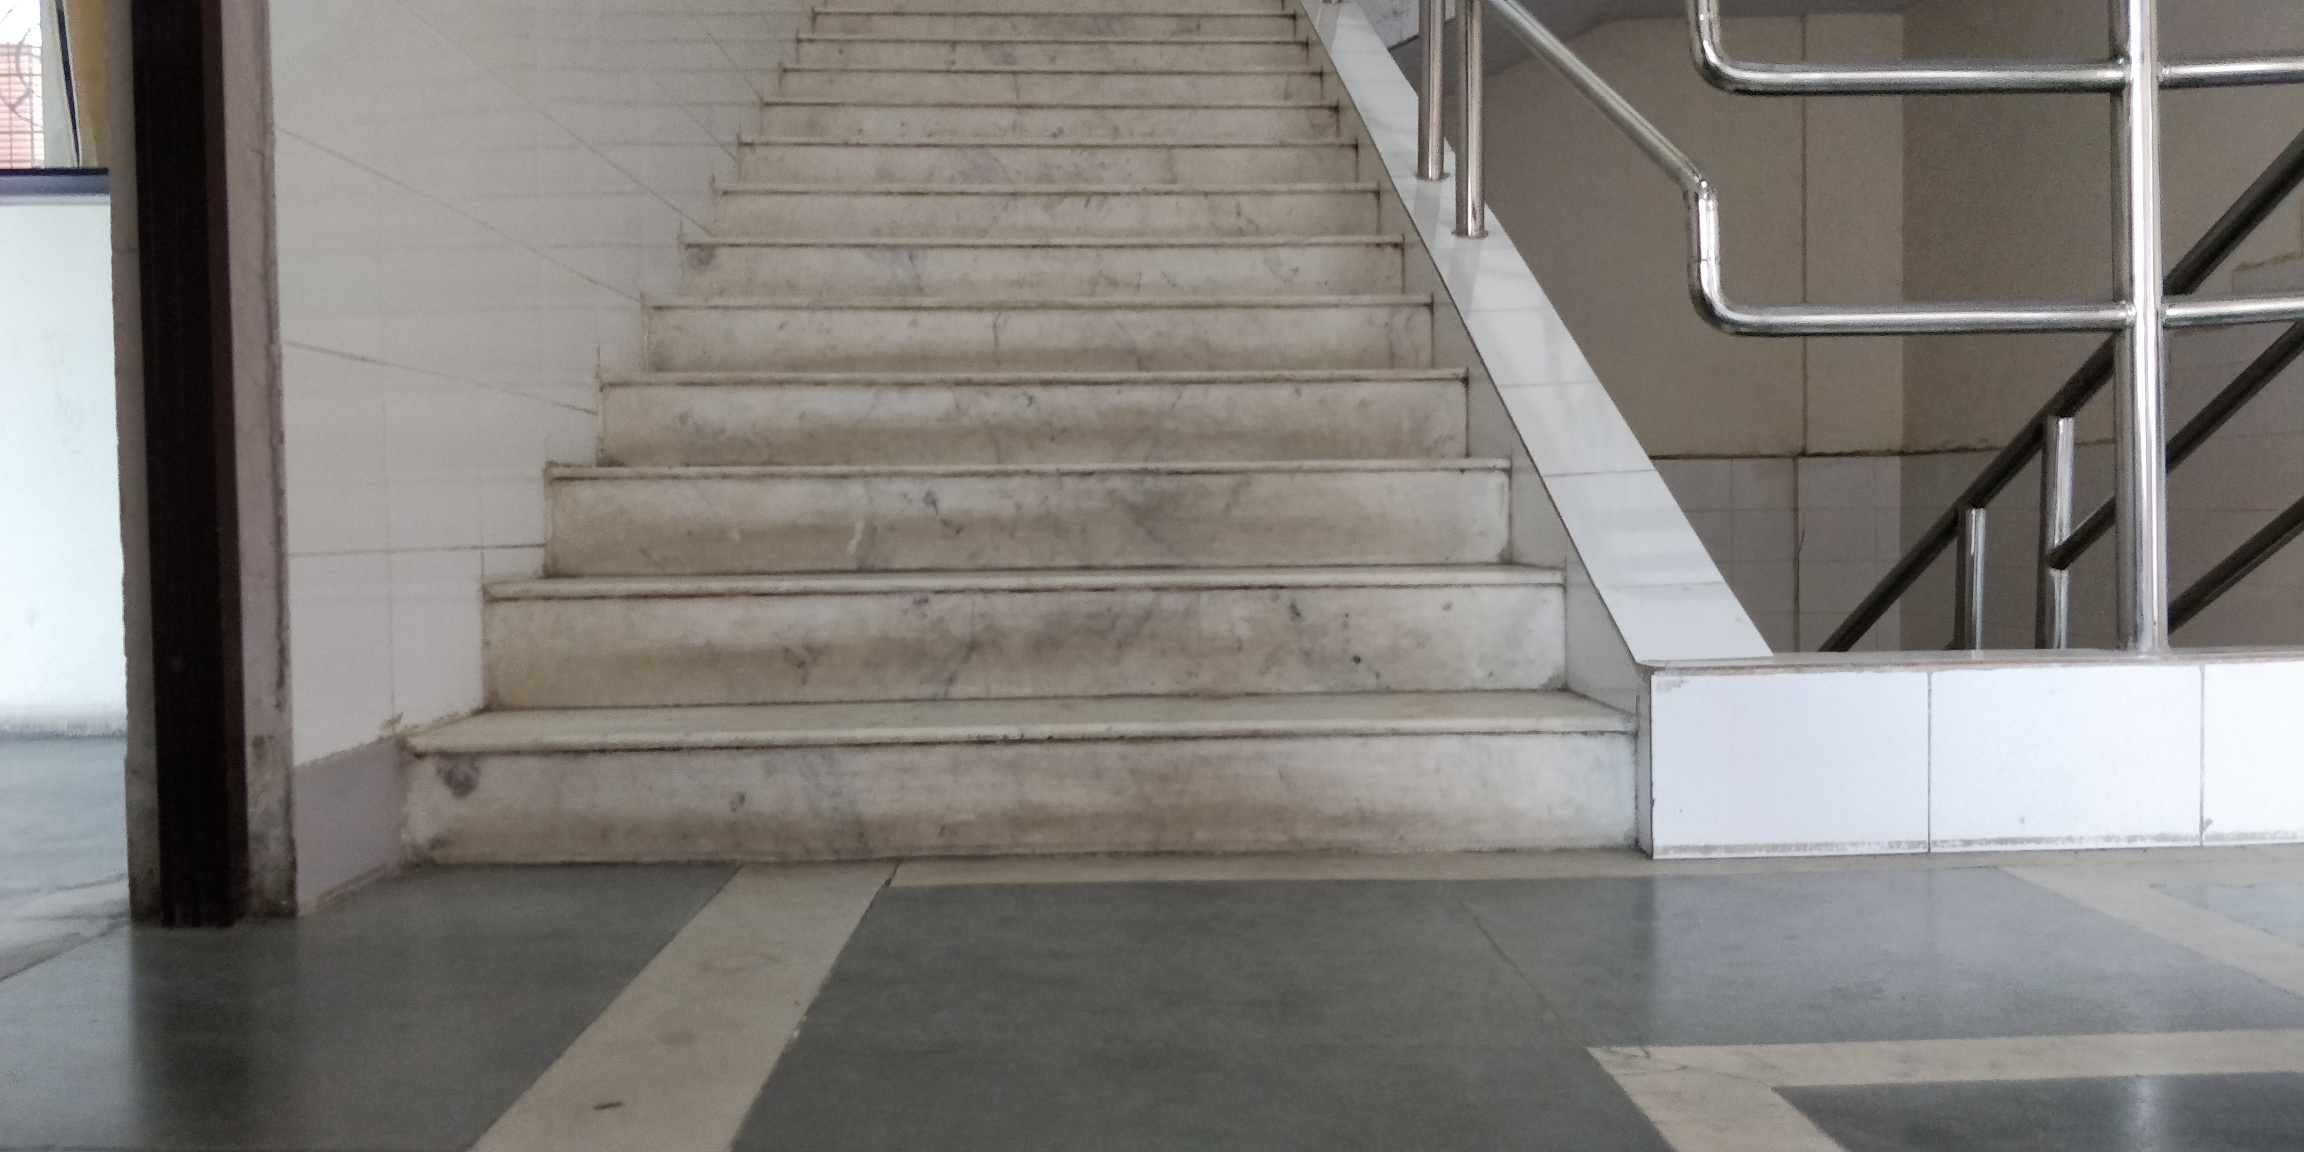stairs_up: (410, 26, 1649, 932)
